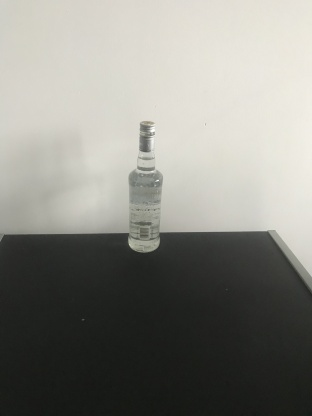nakretka: (137, 119, 156, 152)
